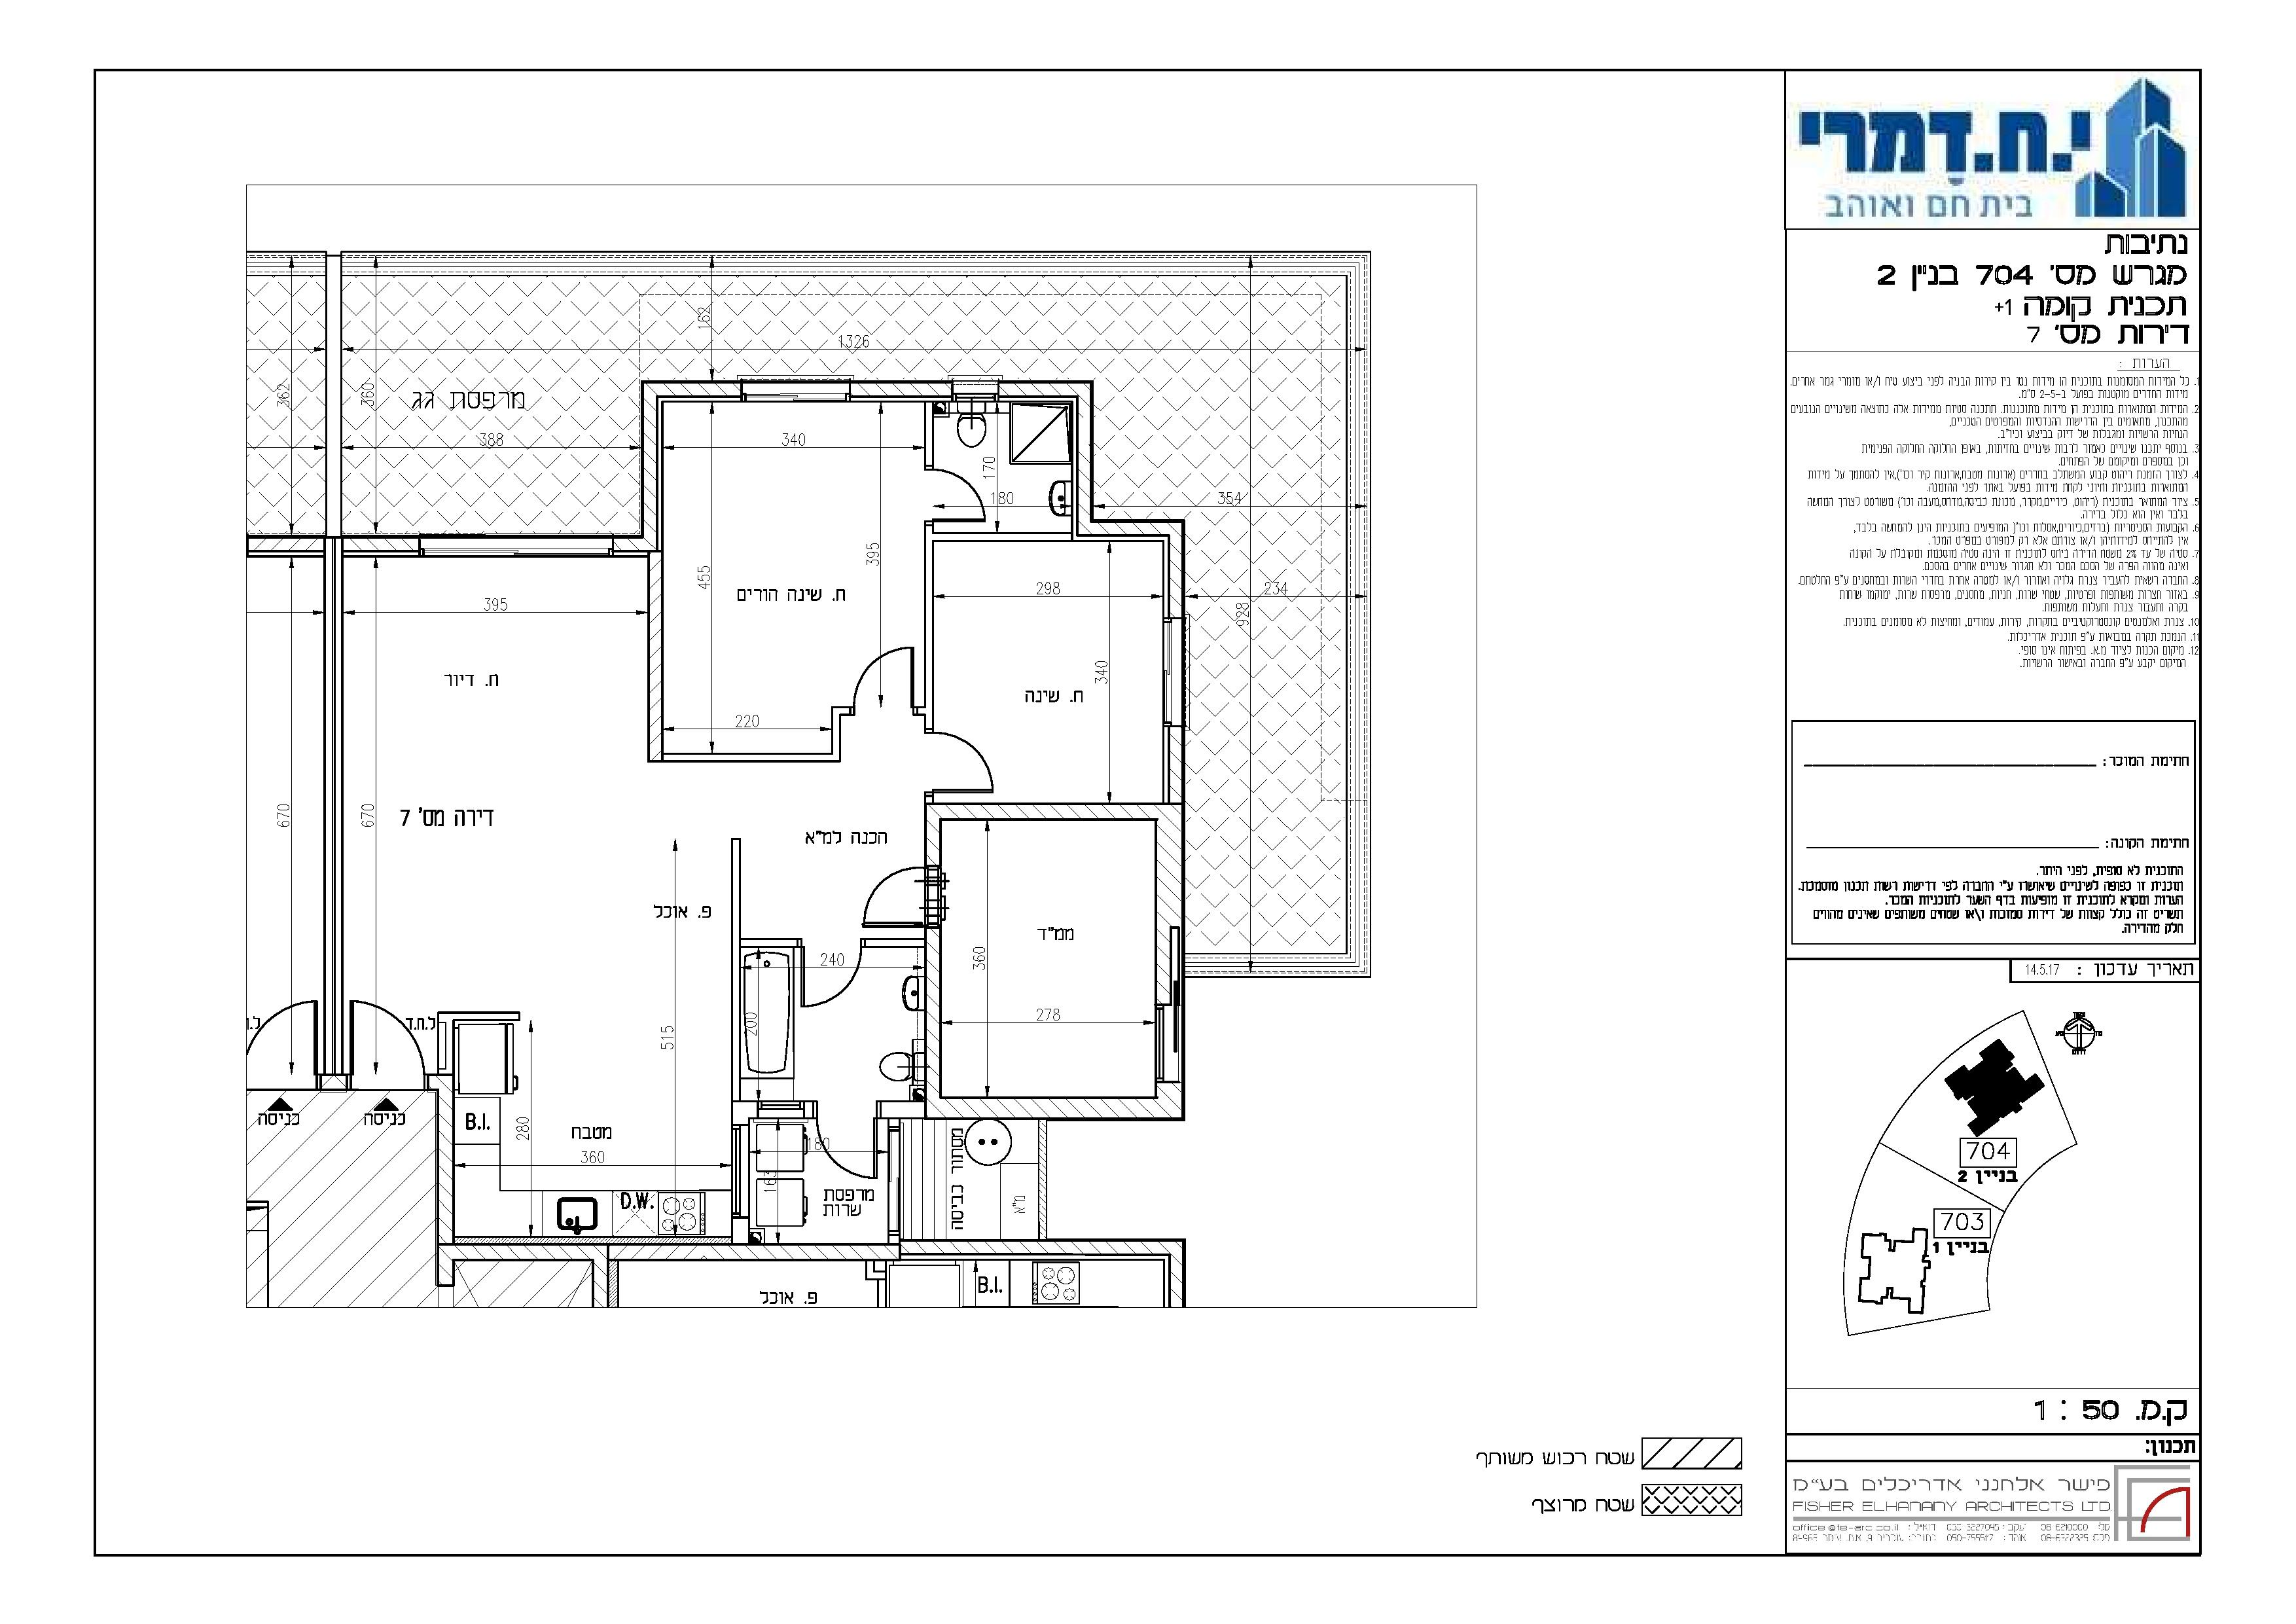door: (348, 993, 432, 1070), (241, 993, 323, 1070), (850, 866, 928, 937), (847, 631, 924, 700), (929, 728, 1007, 796), (815, 1118, 885, 1185), (798, 949, 861, 1012), (935, 466, 991, 527)
md: (190, 181, 1530, 1383)
rd: (1780, 63, 2205, 1559)
window: (420, 536, 613, 555), (1165, 619, 1186, 724), (741, 381, 850, 401), (952, 380, 1000, 401)
